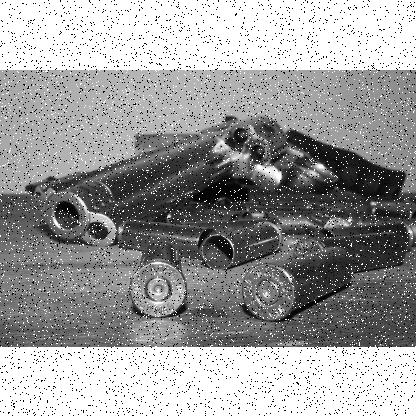gun: (25, 111, 410, 245)
